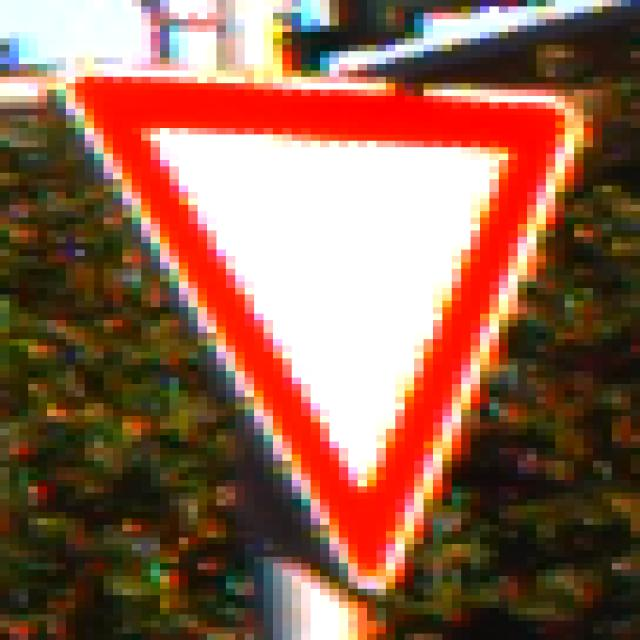Give Way: (58, 59, 585, 590)
